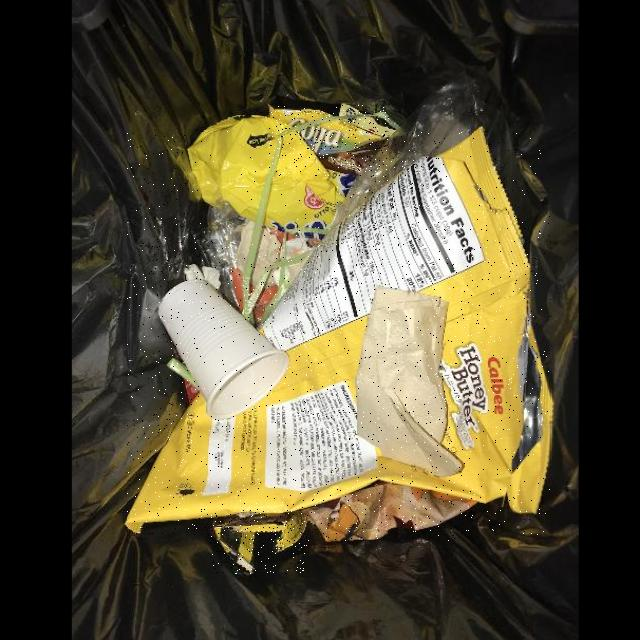paper: (356, 286, 466, 478)
plastic: (159, 279, 291, 421)
wrapper: (127, 131, 551, 535), (187, 116, 345, 237), (302, 484, 478, 541), (269, 106, 389, 176), (211, 511, 307, 574)
